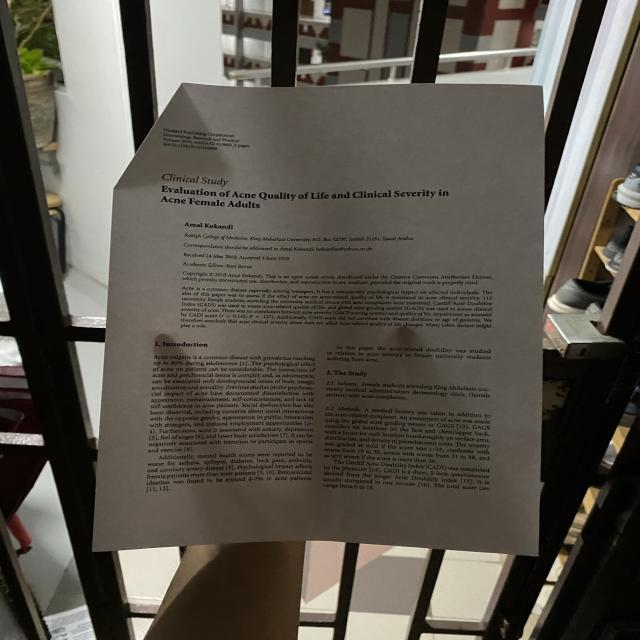document: (94, 84, 544, 555)
